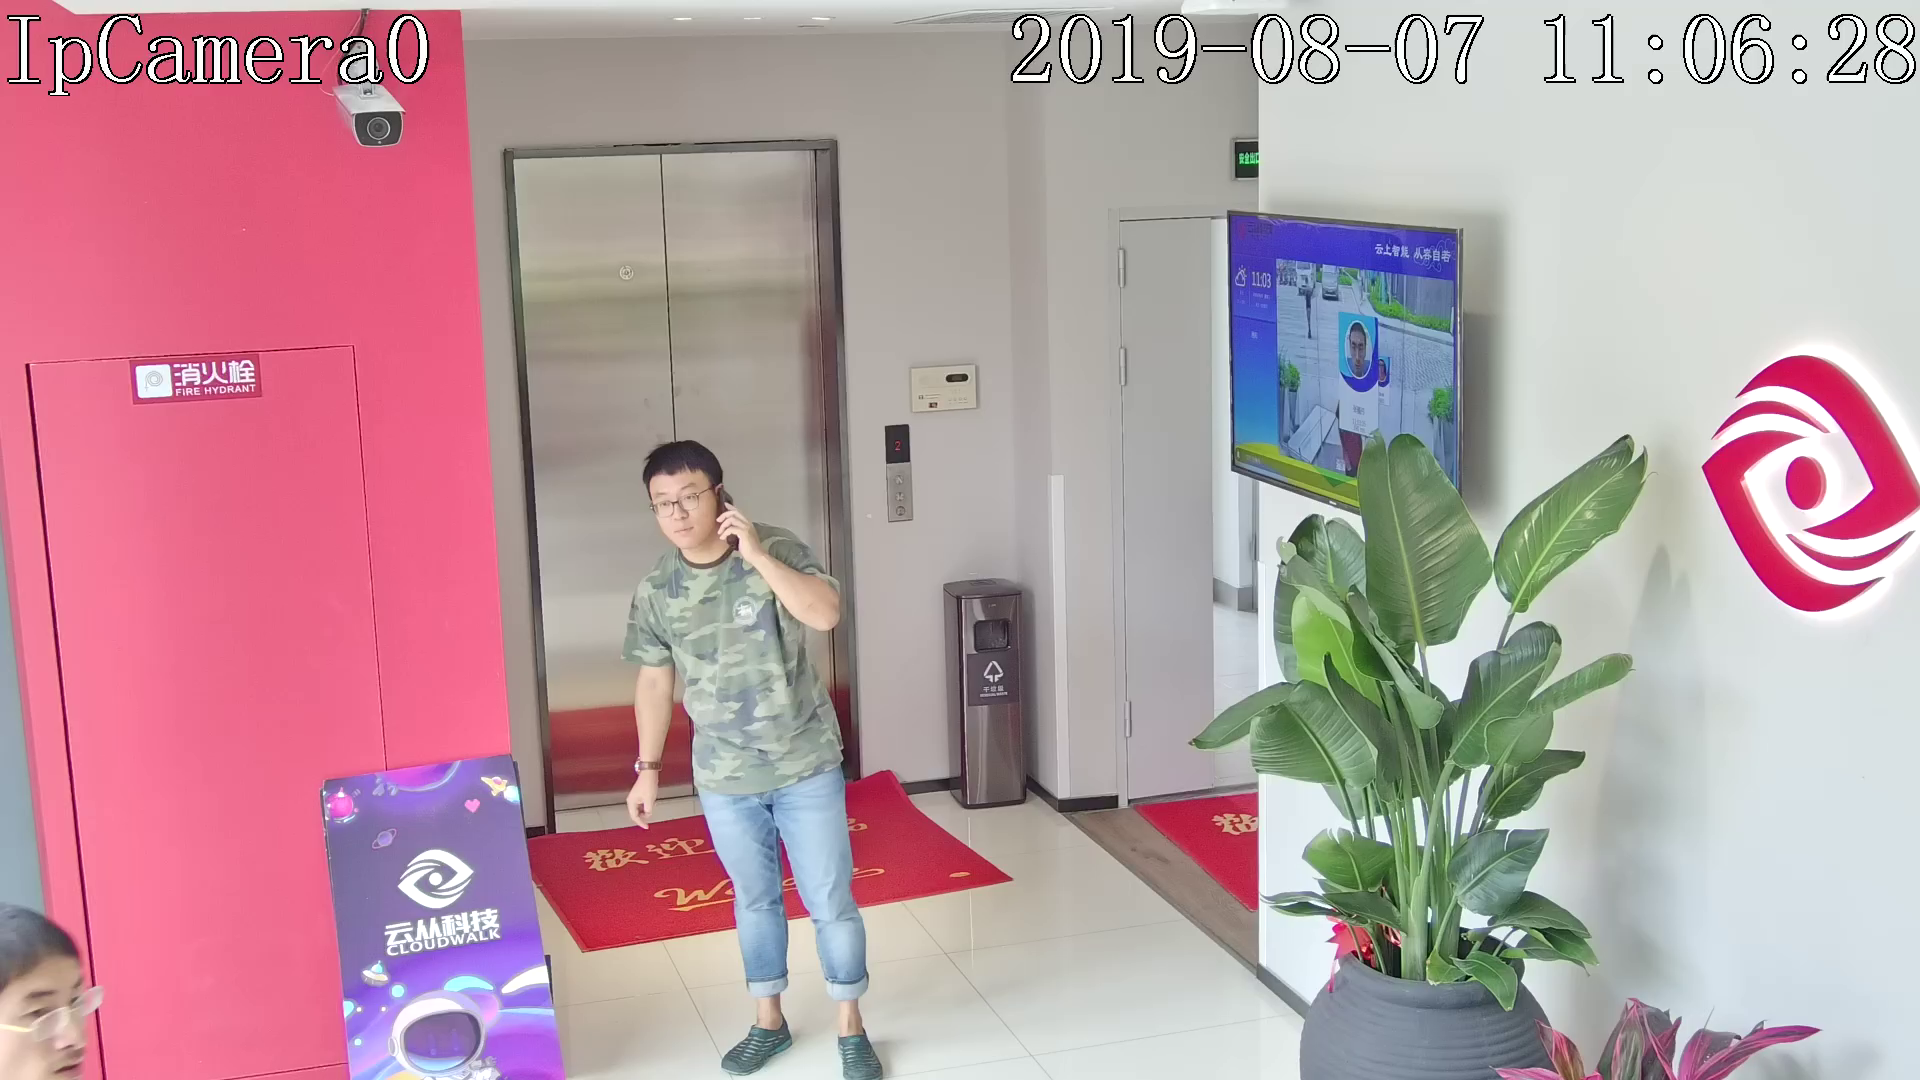bill: (316, 757, 564, 1080)
